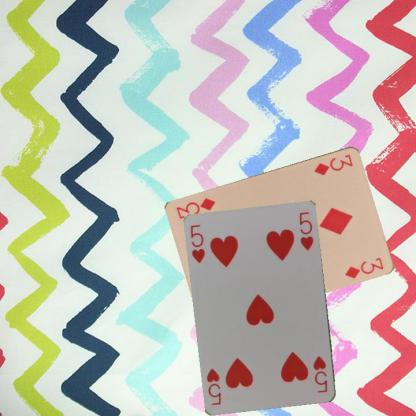3d: (312, 152, 354, 176)
5h: (188, 222, 207, 264), (311, 353, 329, 394)
